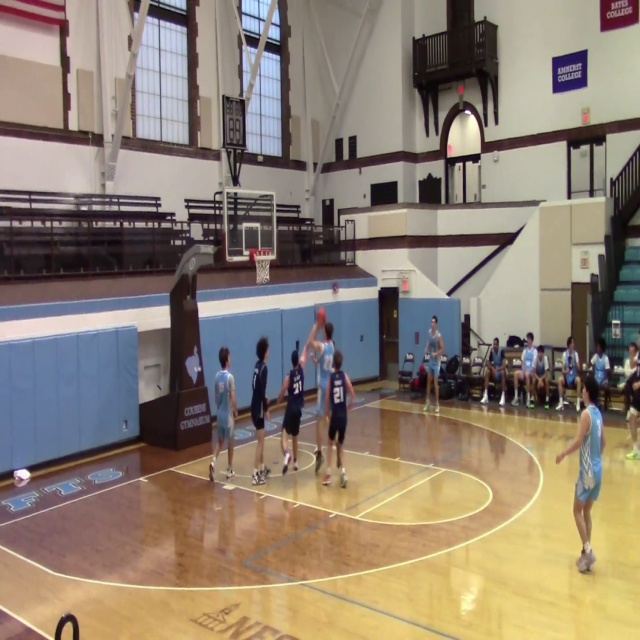Basketball: (13, 469, 31, 481), (315, 306, 326, 323), (514, 370, 523, 380), (332, 282, 339, 294)
